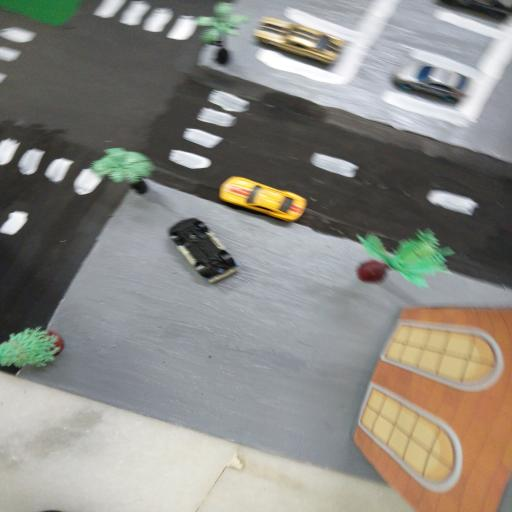car crash: (152, 216, 250, 282)
